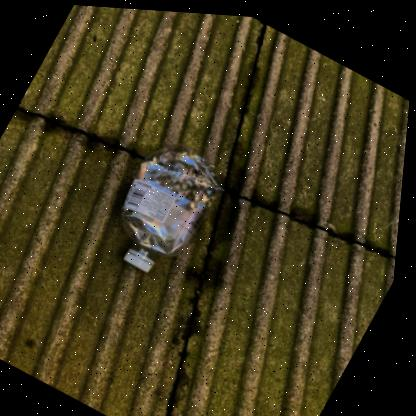Plastic: (125, 142, 227, 270)
